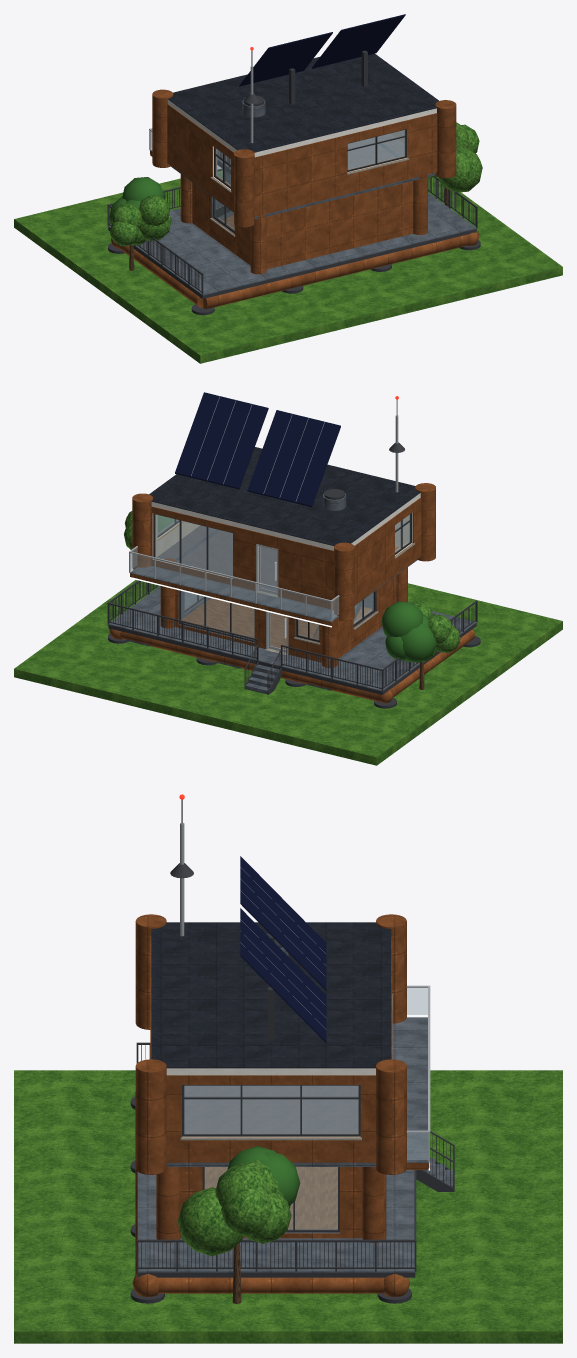
The model's file is b_pod_solar.gltf.
3 views of the same model, one above another, from view 1: azimuth 30°, elevation 25°; view 2: azimuth 150°, elevation 25°; view 3: azimuth 270°, elevation 25° (orthographic). The views are drawn at different scales.
Visible parts, largest first — view 1: S_pod_solar; view 2: S_pod_solar, D_pod_solar_Up_S1_Door0, D_pod_solar_Lo_S1_Door0, D_pod_solar_RoofHatch; view 3: S_pod_solar.
Part boxes in pixels (x1=…): S_pod_solar: x1=14, y1=14, x2=562, y2=363; S_pod_solar: x1=14, y1=392, x2=562, y2=765; D_pod_solar_Up_S1_Door0: x1=258, y1=546, x2=277, y2=594; D_pod_solar_Lo_S1_Door0: x1=268, y1=612, x2=286, y2=652; D_pod_solar_RoofHatch: x1=323, y1=489, x2=346, y2=510; S_pod_solar: x1=14, y1=794, x2=562, y2=1343.
Bounding box in the file's own units: 18 × 11.78 × 16.
Materials: 25 (12 with a texture image).
